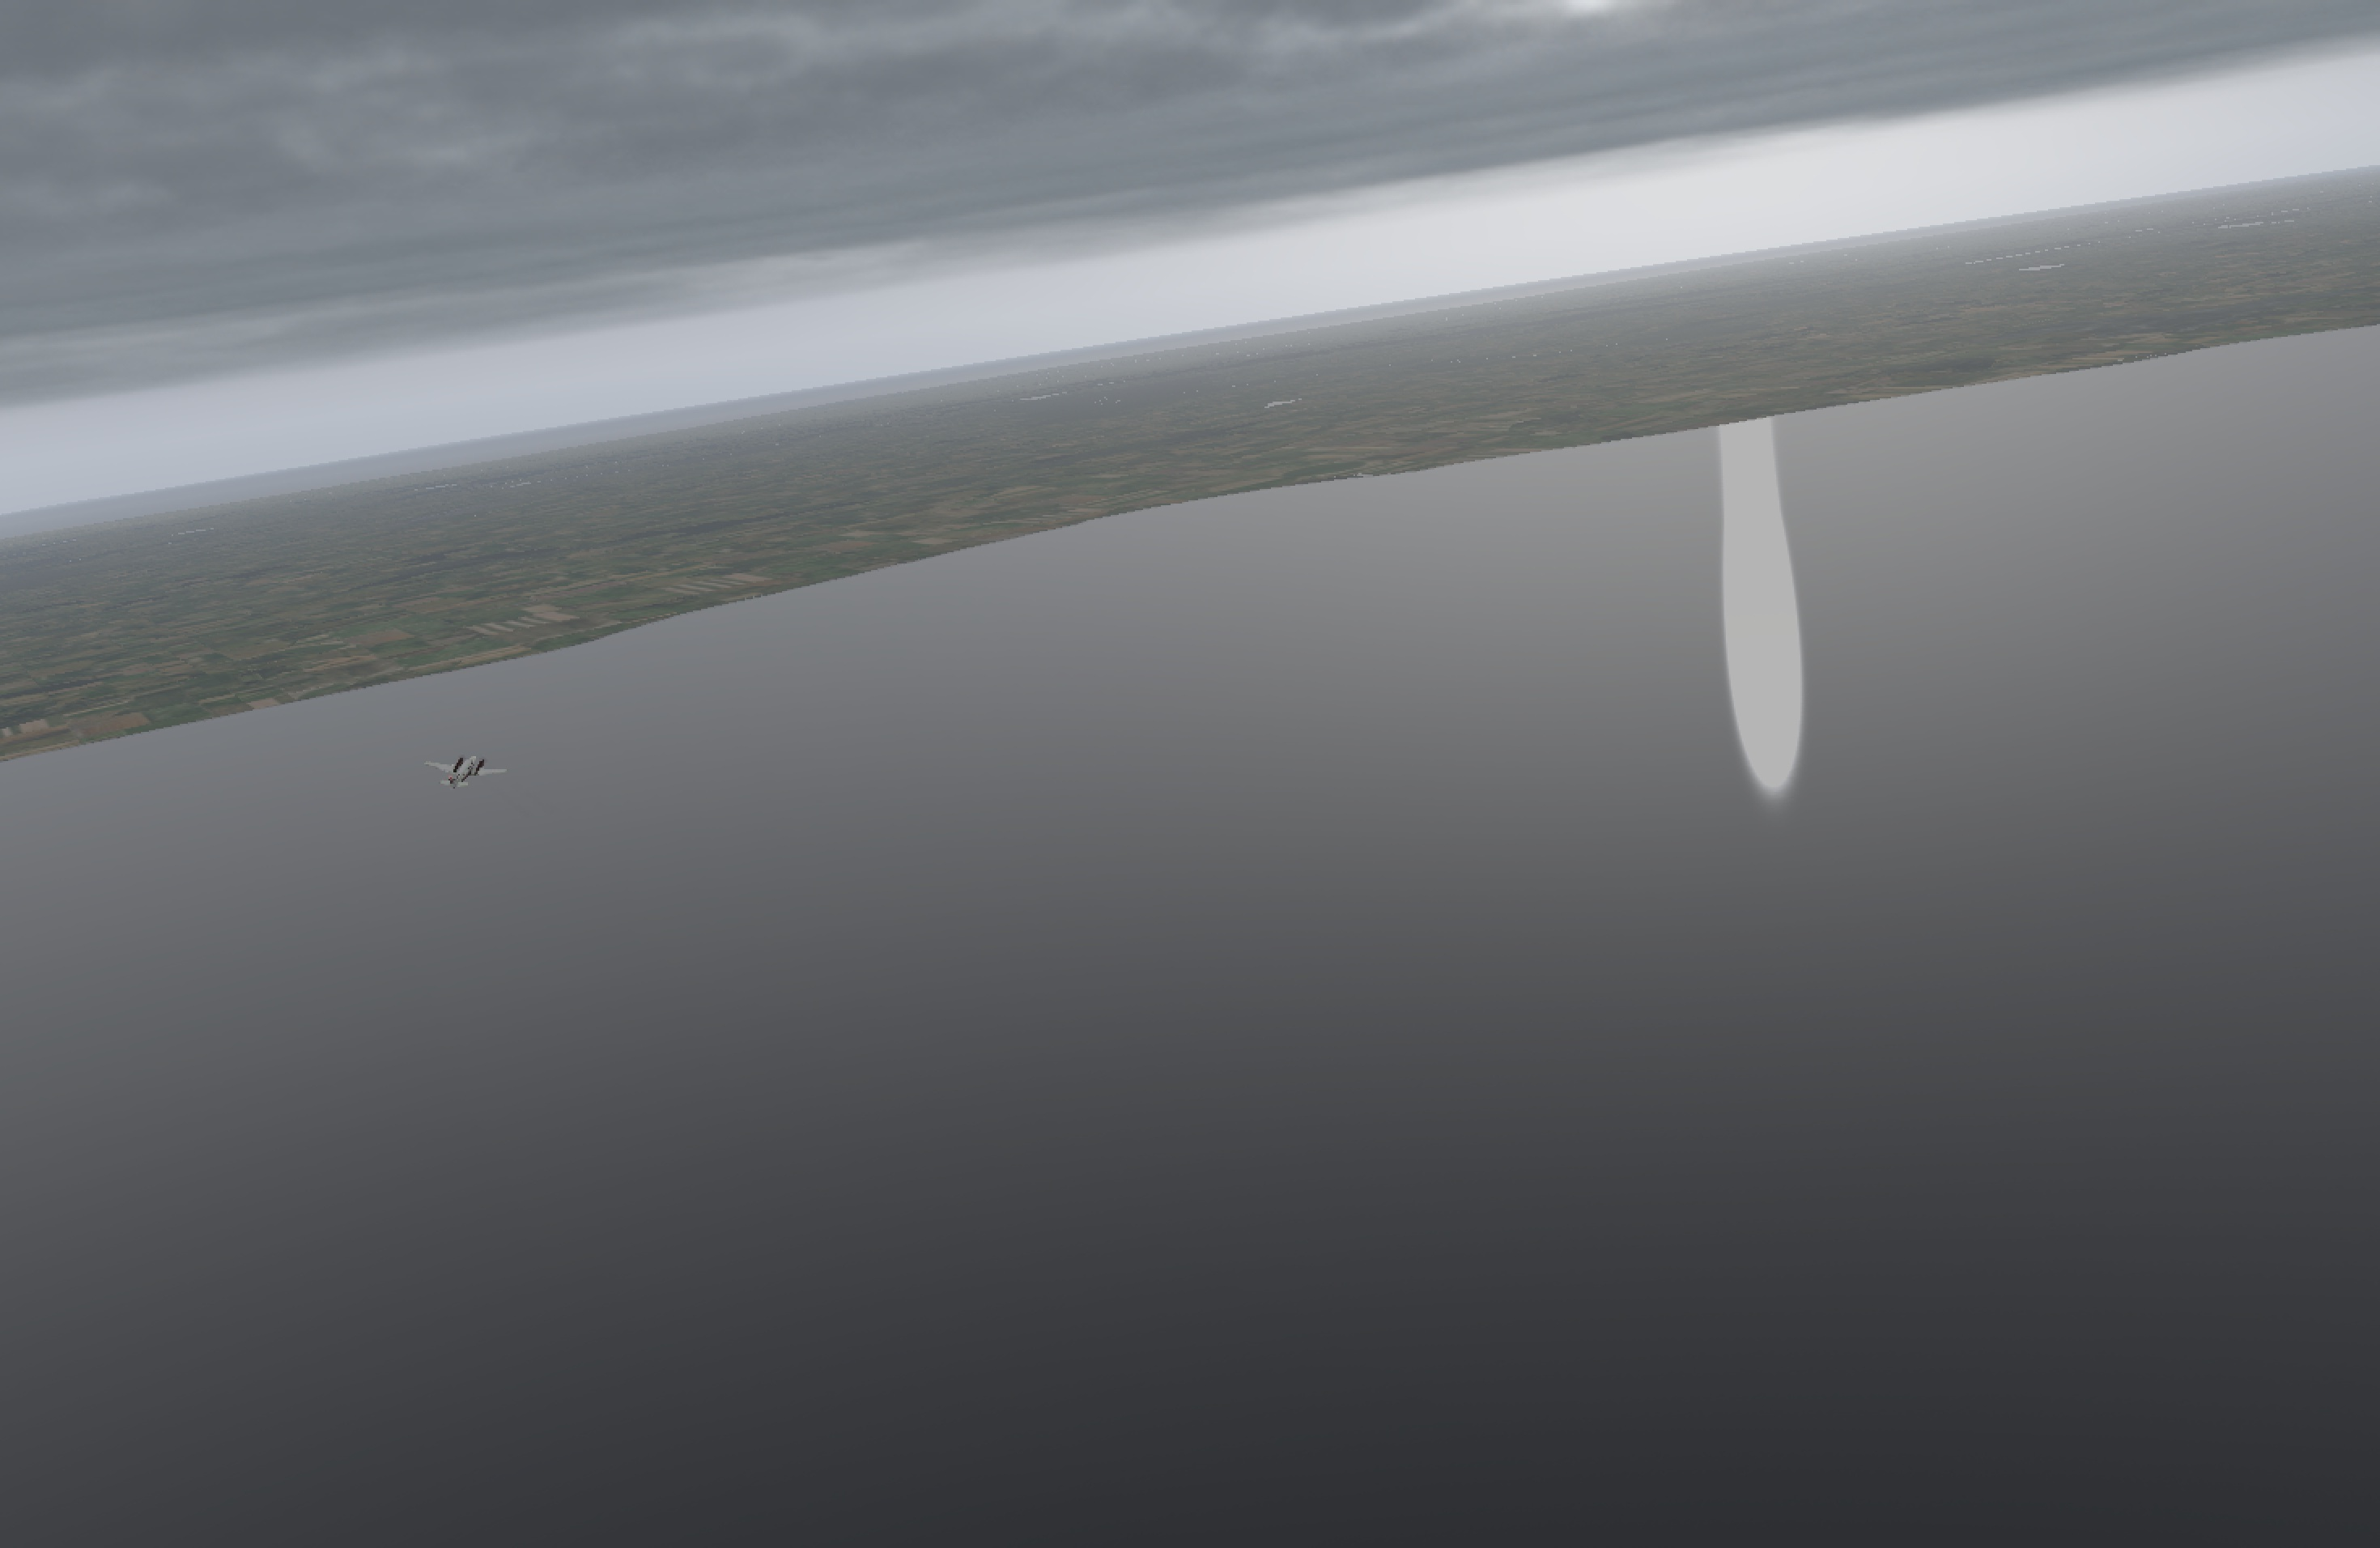aircraft: (427, 755, 508, 784)
